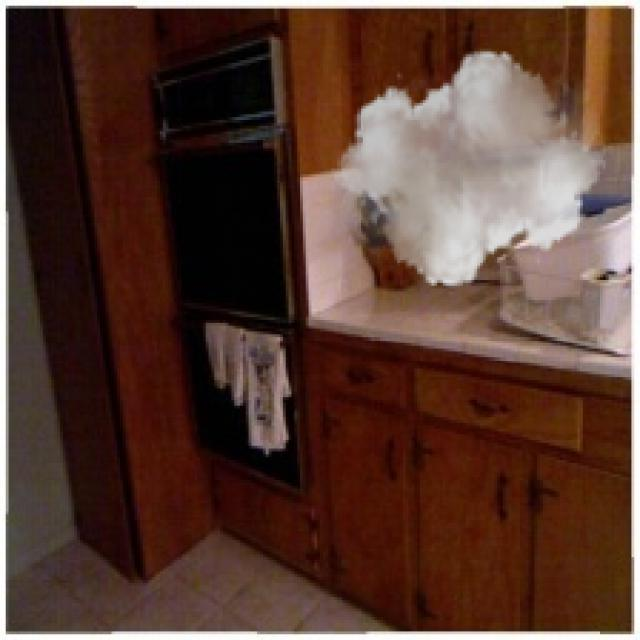Smoke: (331, 40, 606, 297)
